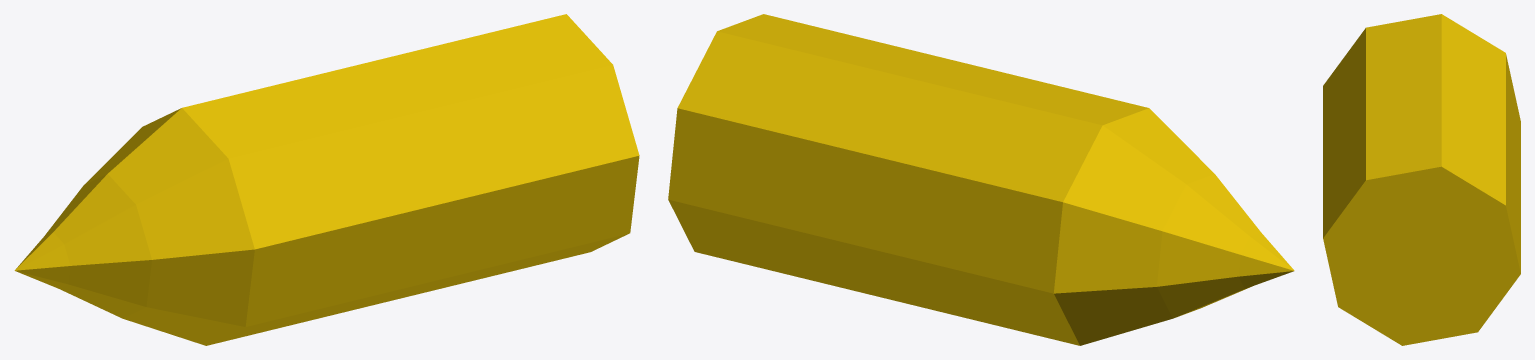
The model's file is Bullet.fbx.
3 renders of one model, left to right at view 1: azimuth 30°, elevation 25°; view 2: azimuth 150°, elevation 25°; view 3: azimuth 270°, elevation 25°, orthographic. The views are drawn at different scales.
Visible parts, largest first — view 1: Cylinder; view 2: Cylinder; view 3: Cylinder.
Part boxes in pixels (x1,y1,x2,y2): Cylinder: (14,14,639,345); Cylinder: (668,14,1294,345); Cylinder: (1323,14,1520,345).
Size of the model in its own units: 525 by 196 by 196.
